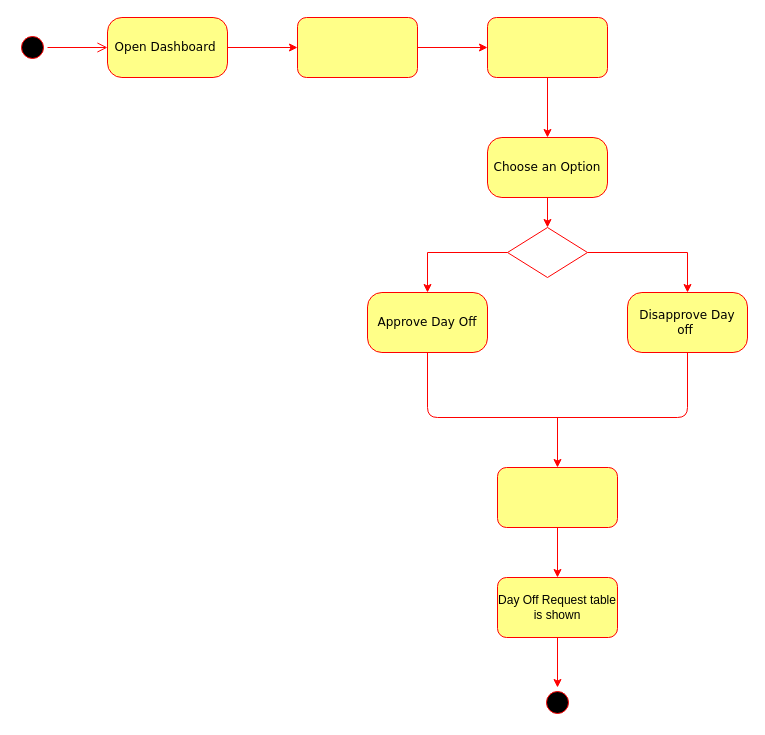
This 765x735 diagram has some shape labels left out. Here are the shapes that lost their labels. From the top down, the centre of each, then its label:
point (357, 47): Open Employee Dashboard
point (547, 47): Show Day off Request table
point (557, 497): Save Change
